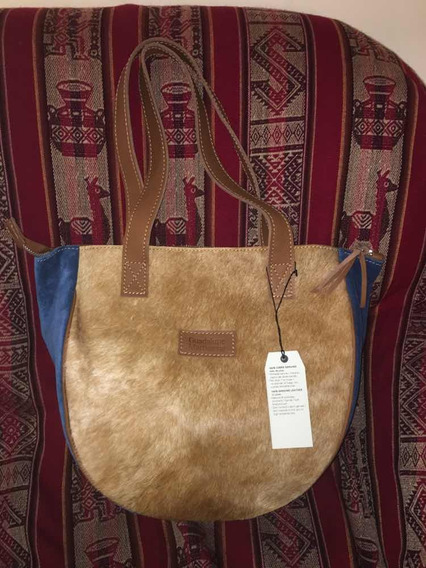cartera: (35, 37, 387, 525)
